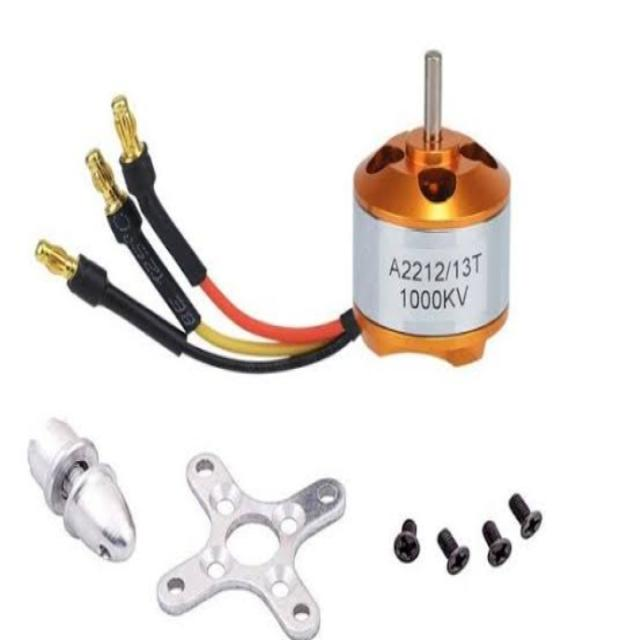motor: (352, 54, 511, 364)
